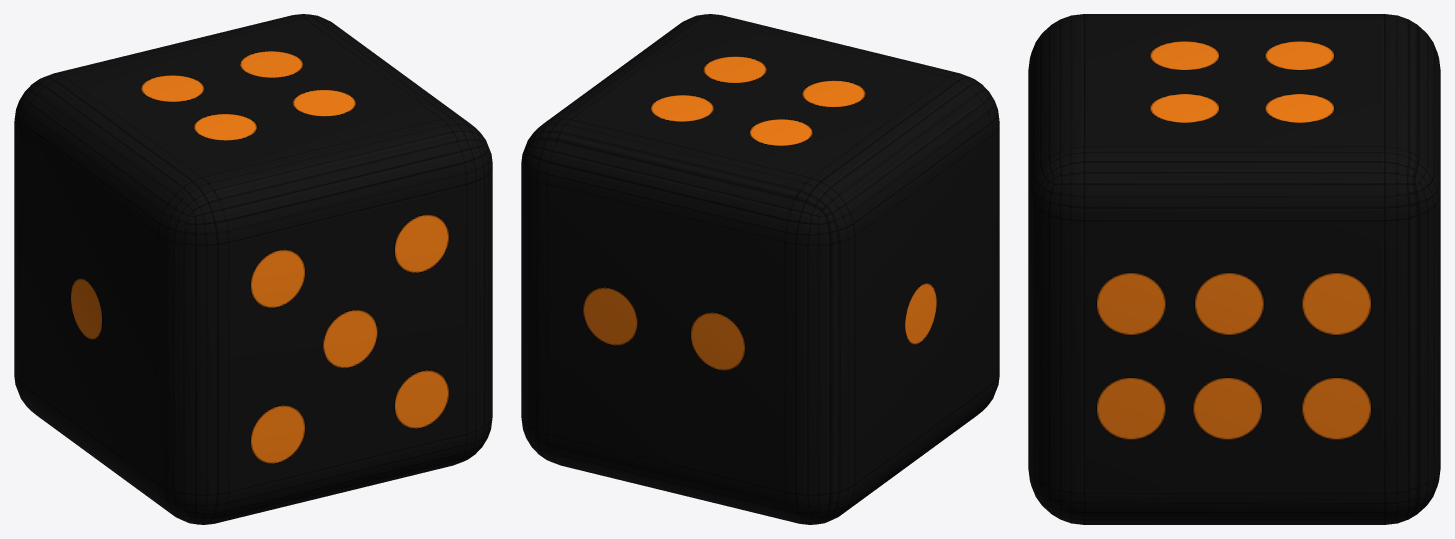
The model's file is Dice.fbx.
3 views of the same model, side by side, from view 1: azimuth 30°, elevation 25°; view 2: azimuth 150°, elevation 25°; view 3: azimuth 270°, elevation 25° (orthographic). The views are drawn at different scales.
Visible parts, largest first — view 1: Cube; view 2: Cube; view 3: Cube.
Boxes of the visible parts, left/top/right/bottom form: Cube: left=14, top=14, right=492, bottom=524; Cube: left=521, top=14, right=999, bottom=524; Cube: left=1028, top=14, right=1440, bottom=524.
Bounding box in the file's own units: 1 × 1 × 1.
Materials: 1 (1 with a texture image).
